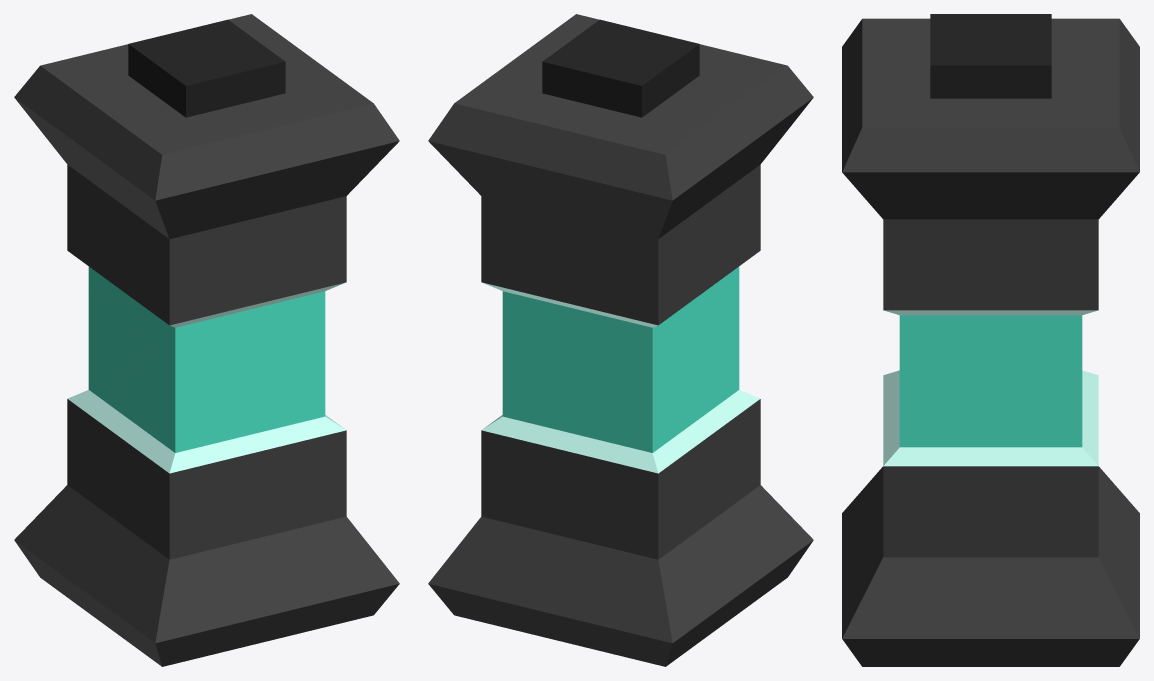
File: Grenade.fbx
The picture shows the model from 3 angles, left to right: view 1: azimuth 30°, elevation 25°; view 2: azimuth 150°, elevation 25°; view 3: azimuth 270°, elevation 25°; orthographic projection. The views are drawn at different scales.
Parts seen in each view (by area): view 1: Grenade; view 2: Grenade; view 3: Grenade.
Boxes of the visible parts, x1,y1,x2,y2 form: Grenade: (14,14,399,666); Grenade: (428,14,813,666); Grenade: (842,14,1139,666).
Size of the model in its own units: 10 by 21.24 by 10.
1 material, 1 textured.
